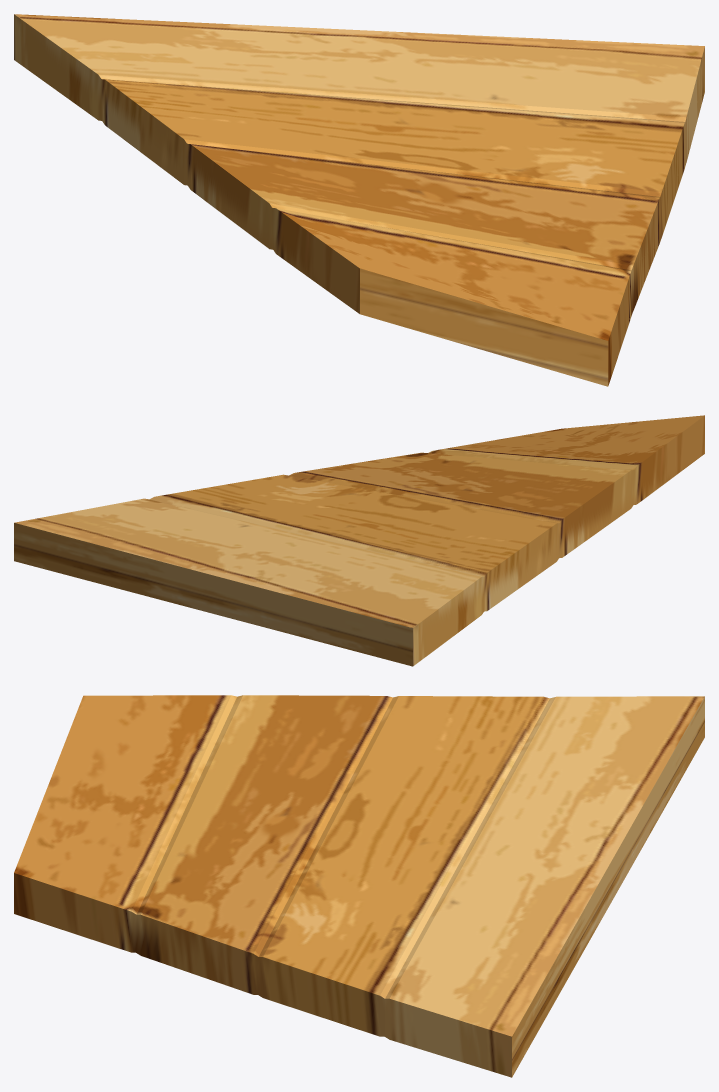
File: SM_TreePlatforms_Box008.FBX
3 views of the same model, one above another, from view 1: azimuth 30°, elevation 25°; view 2: azimuth 150°, elevation 25°; view 3: azimuth 270°, elevation 25° (orthographic). The views are drawn at different scales.
Parts seen in each view (by area): view 1: Box008_SingleAngle; view 2: Box008_SingleAngle; view 3: Box008_SingleAngle.
Part boxes in pixels (left/top/right/bottom): Box008_SingleAngle: left=14, top=14, right=704, bottom=386; Box008_SingleAngle: left=14, top=415, right=704, bottom=666; Box008_SingleAngle: left=14, top=695, right=704, bottom=1077.
Size of the model in its own units: 8.16 by 1.88 by 9.3.
